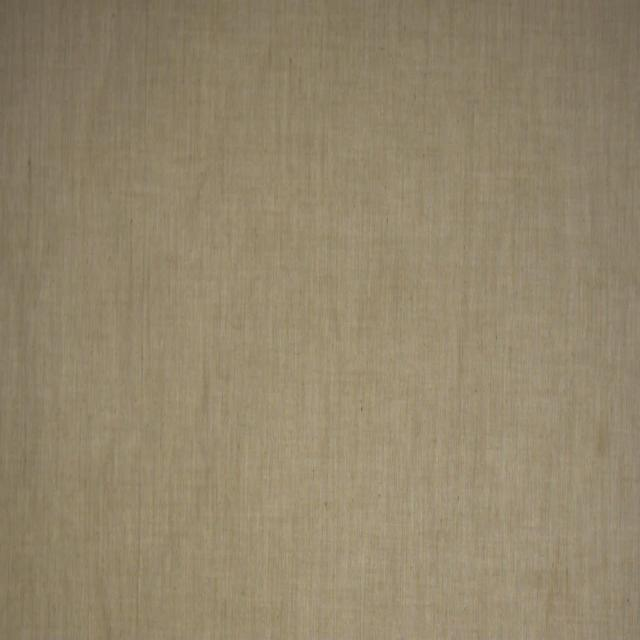dirty: (598, 420, 611, 458)
